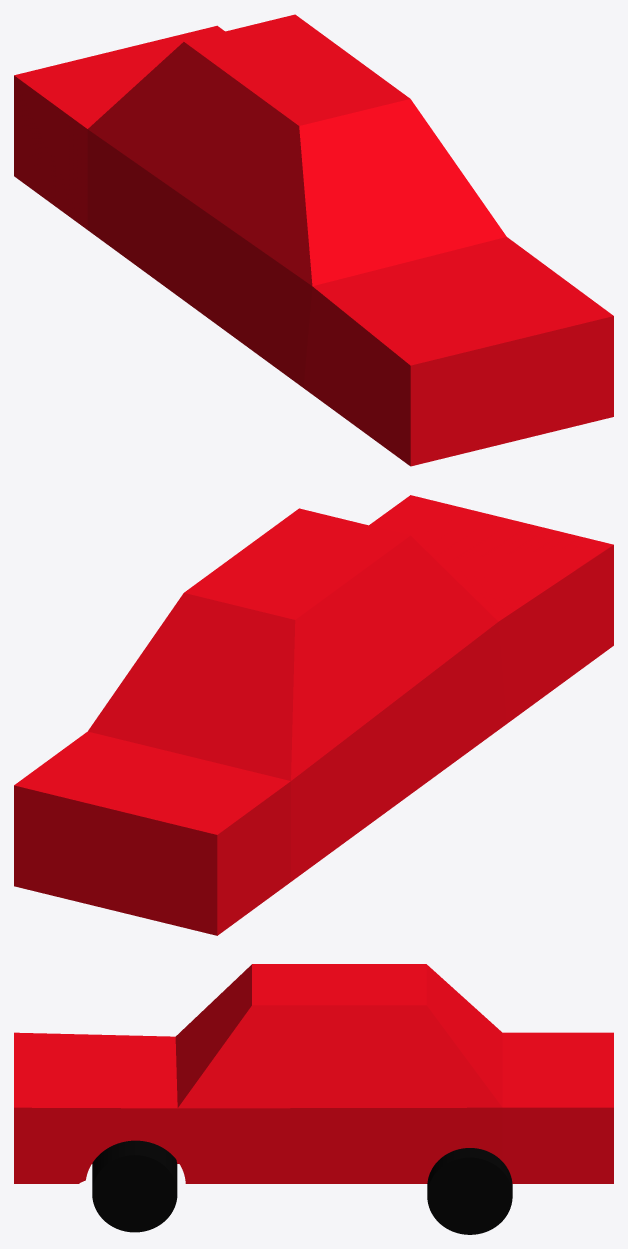
Rendered from car.glb.
3 renders of one model, top to bottom at view 1: azimuth 30°, elevation 25°; view 2: azimuth 150°, elevation 25°; view 3: azimuth 270°, elevation 25°, orthographic. The views are drawn at different scales.
Visible parts, largest first — view 1: car-frame; view 2: car-frame; view 3: car-frame, Cylinder, Cylinder.001.
Part boxes in pixels (x1=…): car-frame: x1=14, y1=14, x2=613, y2=466; car-frame: x1=14, y1=495, x2=613, y2=935; car-frame: x1=14, y1=964, x2=613, y2=1183; Cylinder: x1=92, y1=1140, x2=177, y2=1232; Cylinder.001: x1=427, y1=1148, x2=512, y2=1234.
Bounding box in the file's own units: 2.13 × 2.37 × 6.36.
